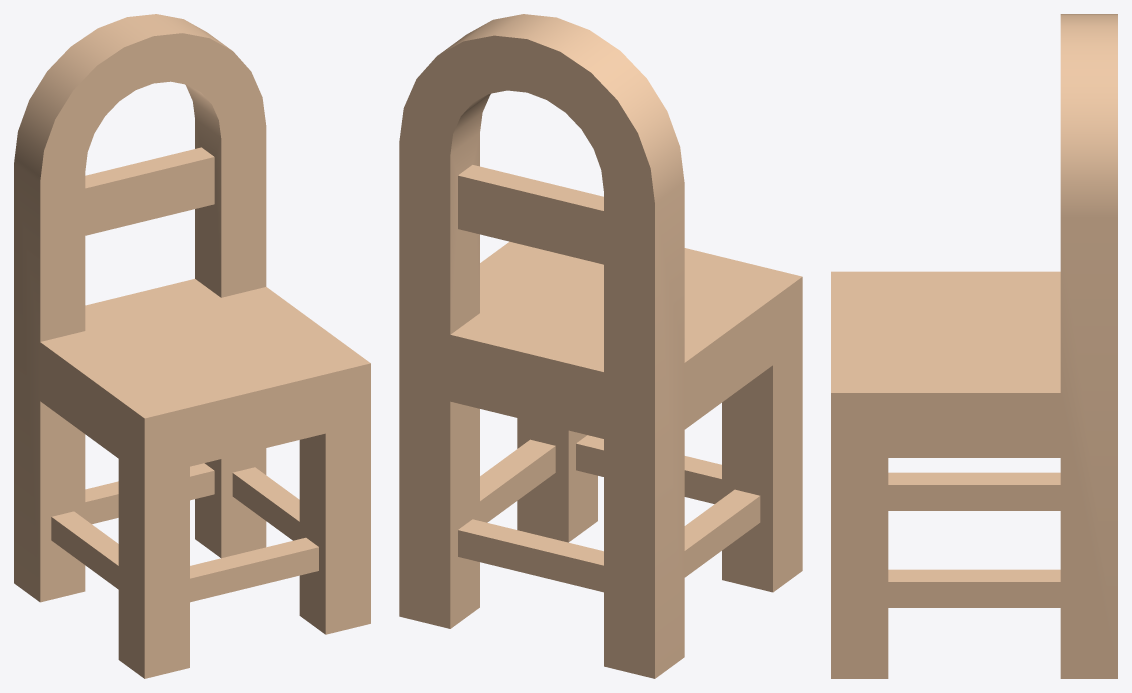
File: chairRounded.glb
3 renders of one model, left to right at view 1: azimuth 30°, elevation 25°; view 2: azimuth 150°, elevation 25°; view 3: azimuth 270°, elevation 25°, orthographic. The views are drawn at different scales.
Parts seen in each view (by area): view 1: chairRounded(Clone); view 2: chairRounded(Clone); view 3: chairRounded(Clone).
Part boxes in pixels (x1=…): chairRounded(Clone): x1=14, y1=14, x2=370, y2=678; chairRounded(Clone): x1=399, y1=14, x2=802, y2=678; chairRounded(Clone): x1=831, y1=14, x2=1117, y2=678.
Size of the model in its own units: 0.406 by 0.9236 by 0.406.
Materials: 1 (1 with a texture image).
